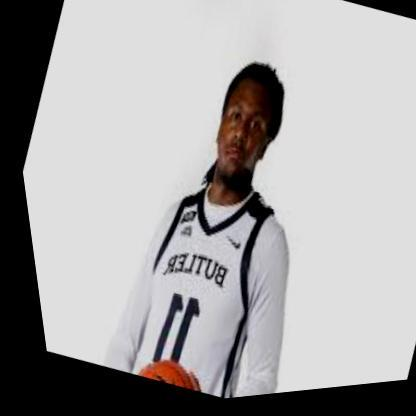basketball: (122, 347, 196, 398)
